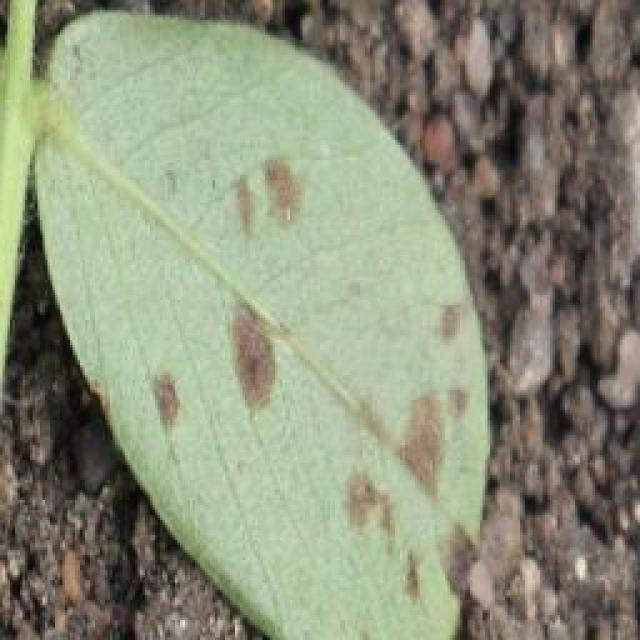Whitefly: (105, 151, 512, 604)
